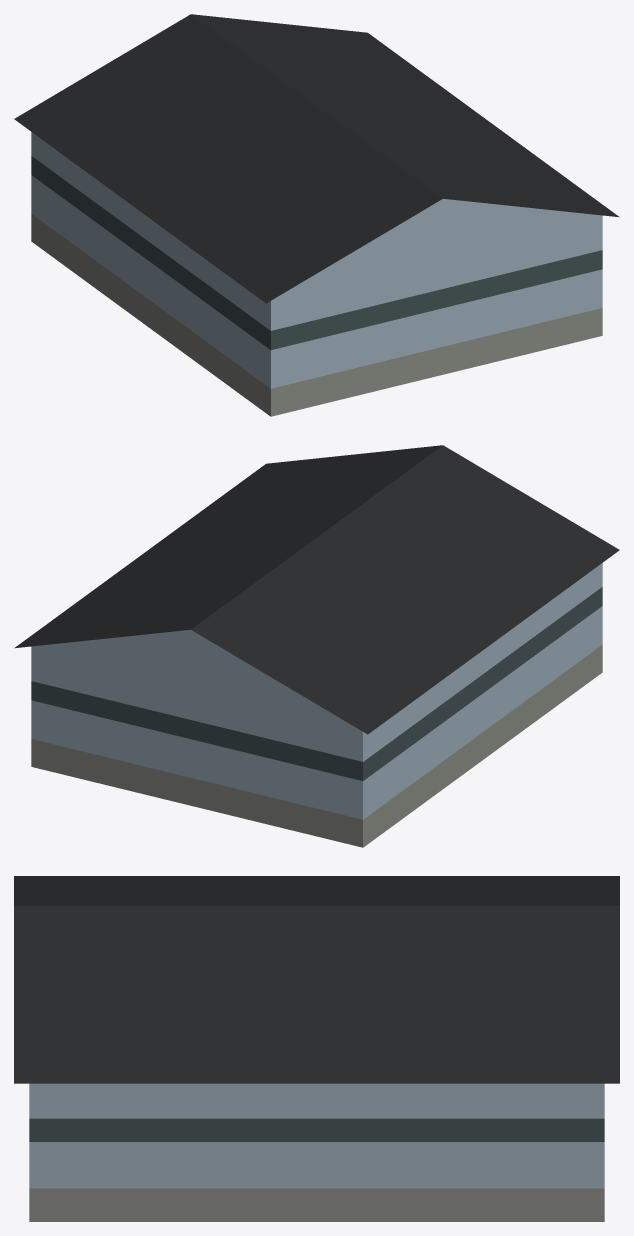
File: far.fbx
3 renders of one model, top to bottom at view 1: azimuth 30°, elevation 25°; view 2: azimuth 150°, elevation 25°; view 3: azimuth 270°, elevation 25°, orthographic. The views are drawn at different scales.
Visible parts, largest first — view 1: a2004/200/far; view 2: a2004/200/far; view 3: a2004/200/far.
Part boxes in pixels (x1=…): a2004/200/far: x1=14, y1=14, x2=619, y2=416; a2004/200/far: x1=14, y1=445, x2=619, y2=847; a2004/200/far: x1=14, y1=876, x2=619, y2=1221.
Bounding box in the file's own units: 12.8 × 6.3 × 15.8.
